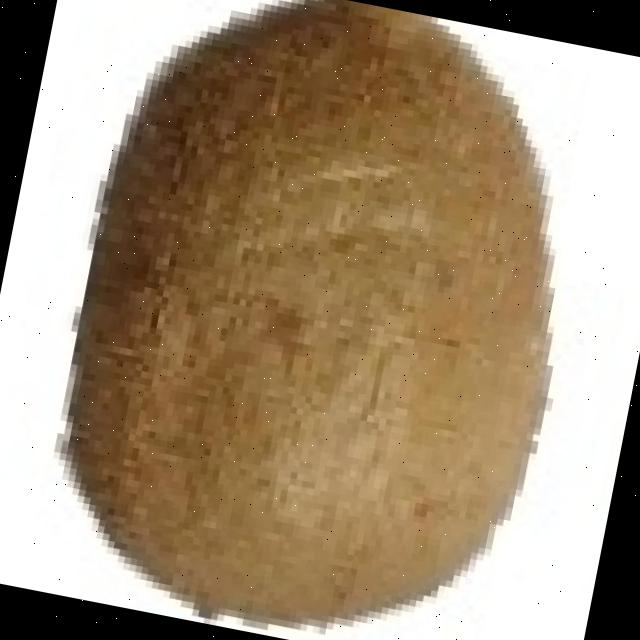kiwi: (78, 11, 552, 634)
